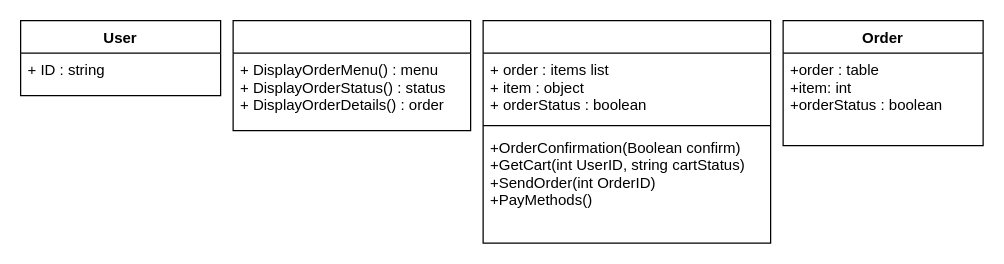
This 1004x264 diagram has some shape labels left out. The box of each missing label's shape, as (x1, y1, x2, y2) in pixels:
Order UI: (232, 19, 471, 131)
Place an Order: (482, 19, 771, 243)
